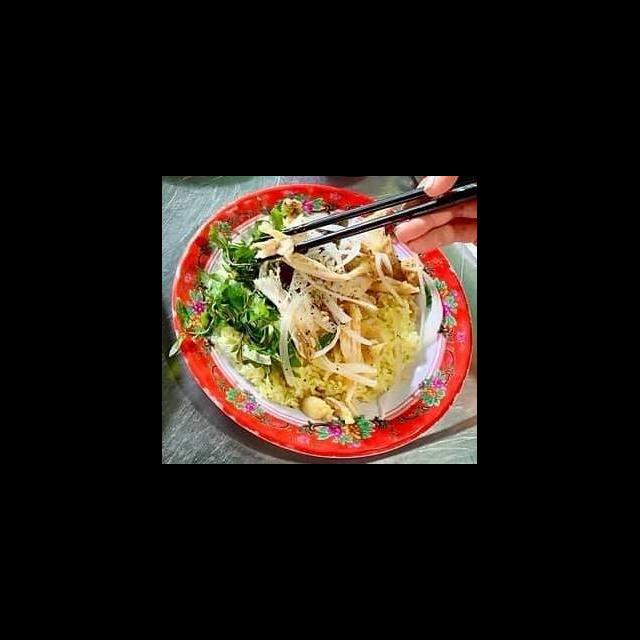com: (354, 294, 422, 405), (238, 359, 356, 414)
com ga: (164, 205, 478, 464)
rau ram: (168, 221, 302, 371)
thit ga: (248, 222, 372, 284), (349, 205, 422, 296)
